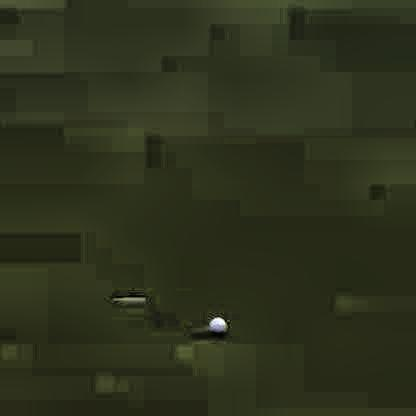golfball: (205, 313, 226, 334)
